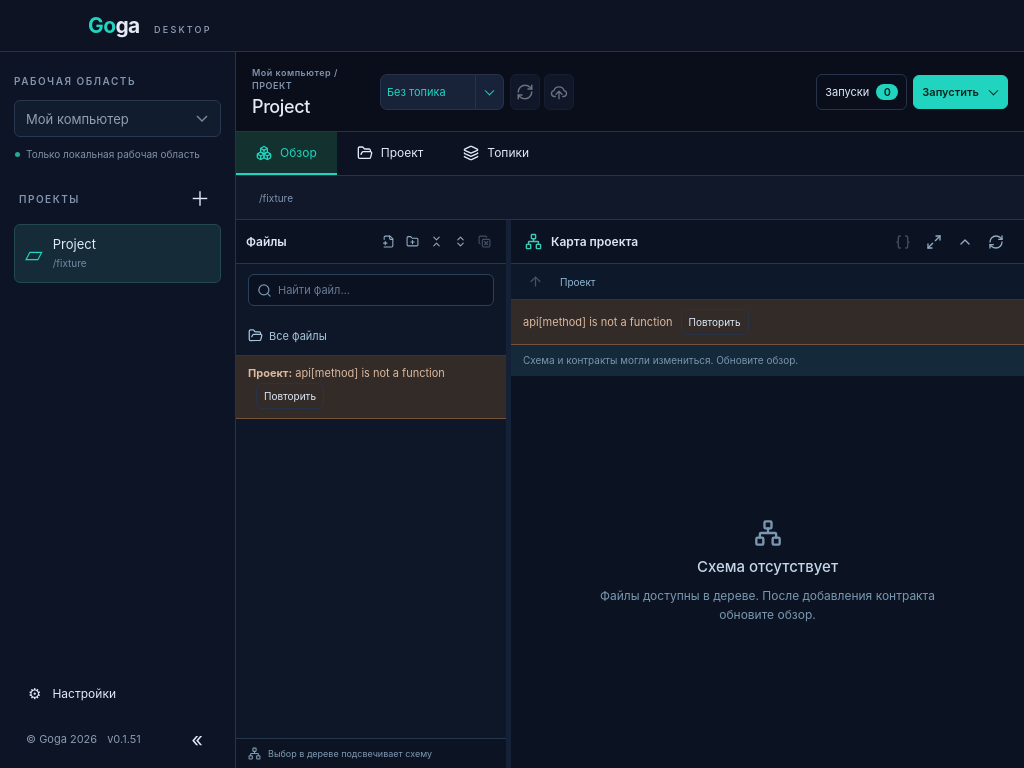
Test: opens local board card through strict production target validation
The width and height of the screenshot is (1024, 768).
Click the button "Топики".
click(496, 154)  # box [443, 132, 549, 175]
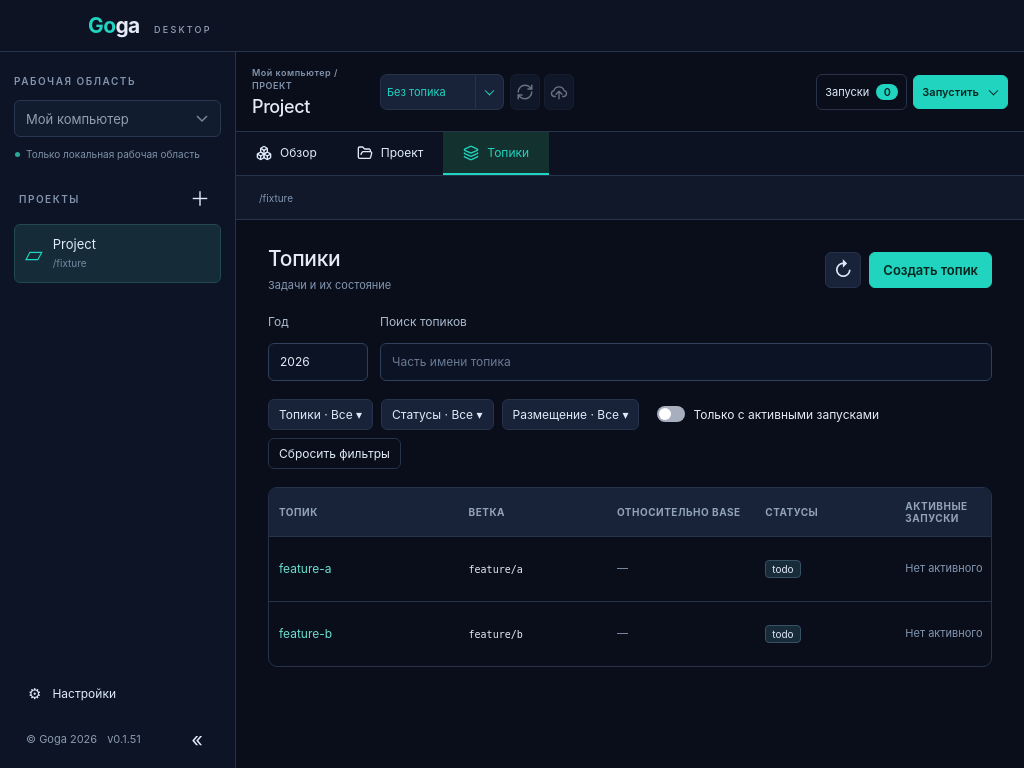
Result: the button with aria-label "Открыть топик feature-b" is shown
Click the button with aria-label "Открыть топик feature-b".
click(306, 634)  # box [279, 626, 332, 641]
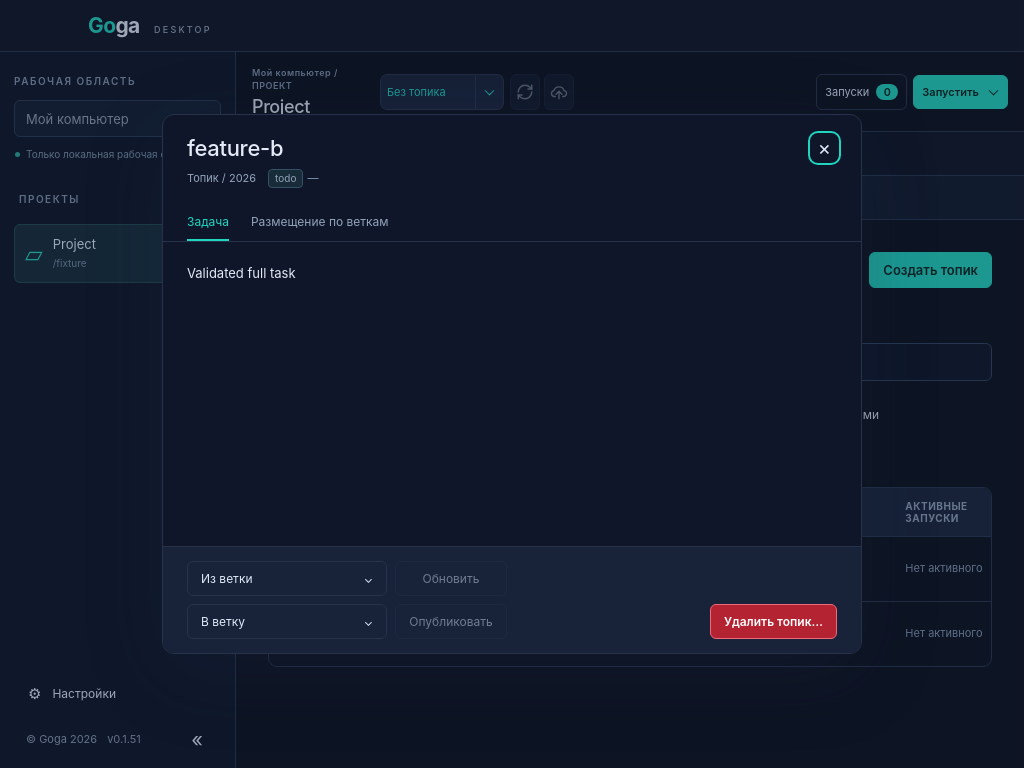
Result: the text "Validated full task" is shown at [187, 265, 296, 281]
